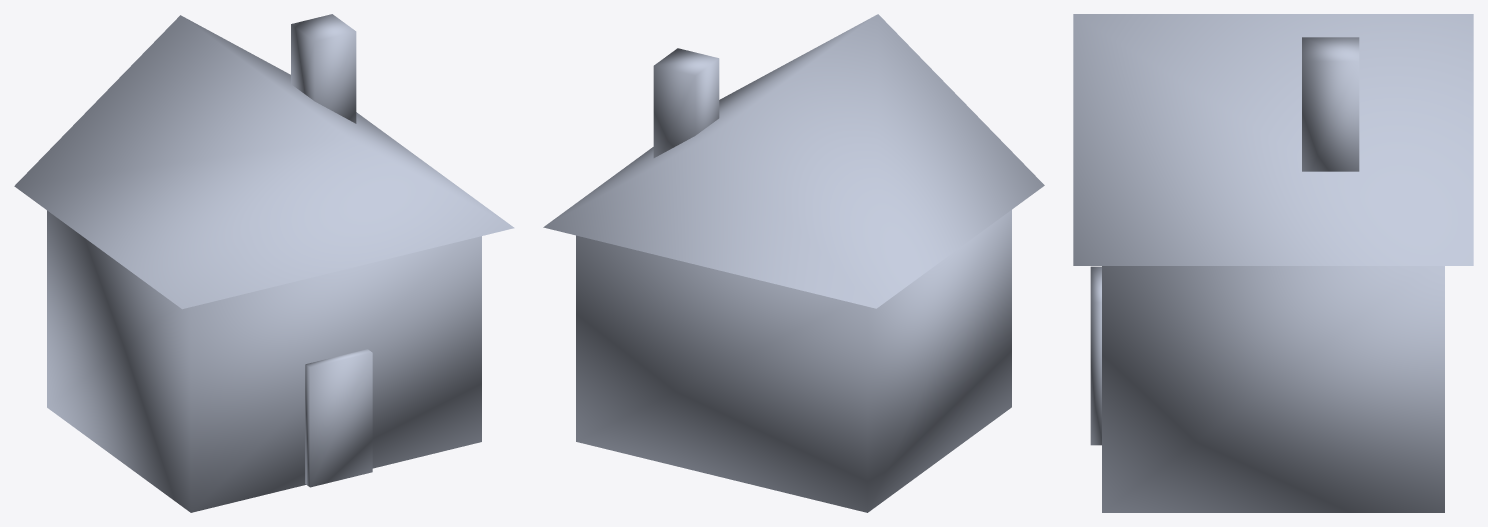
File: polygen_a_cozy_low_poly_house_wi_b913073f.obj
3 views of the same model, side by side, from view 1: azimuth 30°, elevation 25°; view 2: azimuth 150°, elevation 25°; view 3: azimuth 270°, elevation 25° (orthographic). The views are drawn at different scales.
Visible parts, largest first — view 1: Building; view 2: Building; view 3: Building.
Boxes of the visible parts, x1=… form: Building: x1=14, y1=14, x2=514, y2=512; Building: x1=543, y1=14, x2=1044, y2=512; Building: x1=1073, y1=14, x2=1473, y2=512.
Size of the model in its own units: 1.94 by 2 by 1.7.
